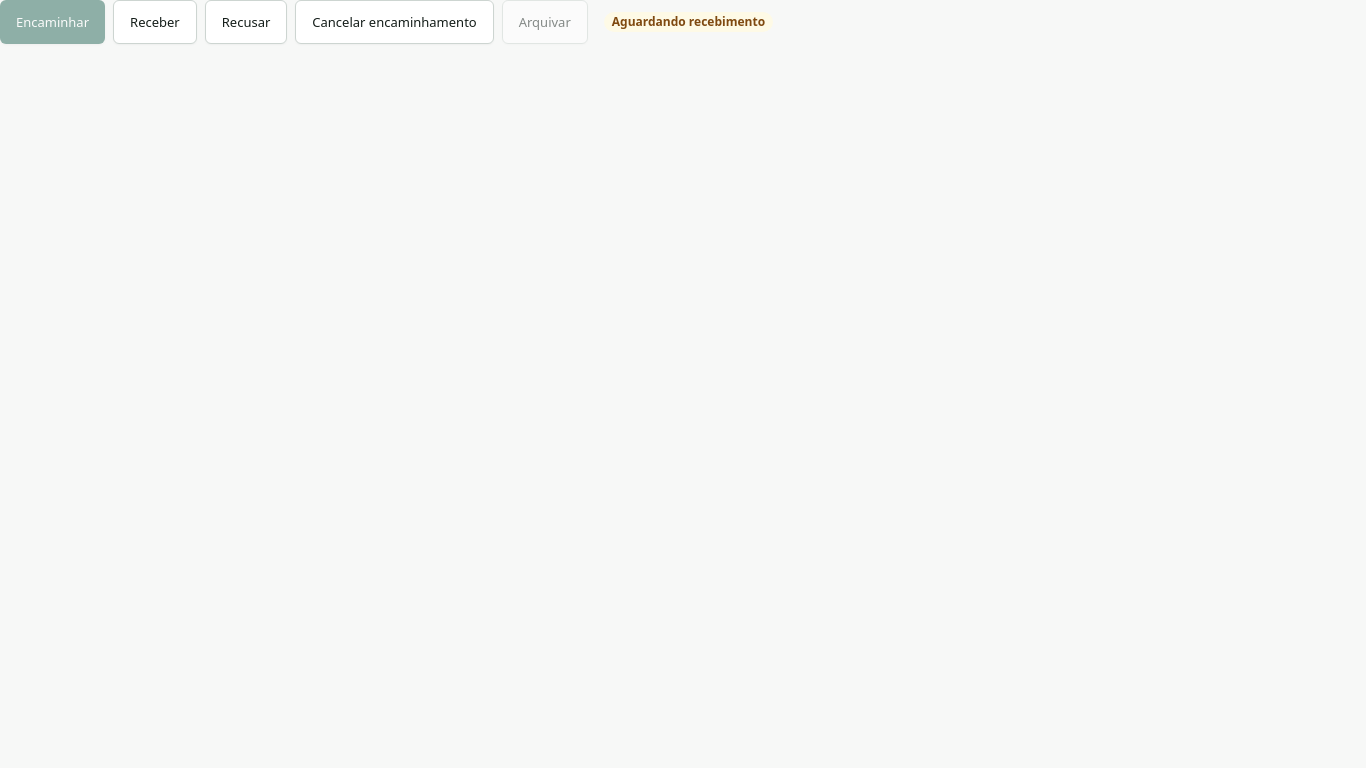
Test: recusar encaminhamento › erro do servidor aparece no diálogo, que continua aberto
The image size is (1366, 768).
Click the button "Recusar": x=246, y=22 [205,0,287,44]
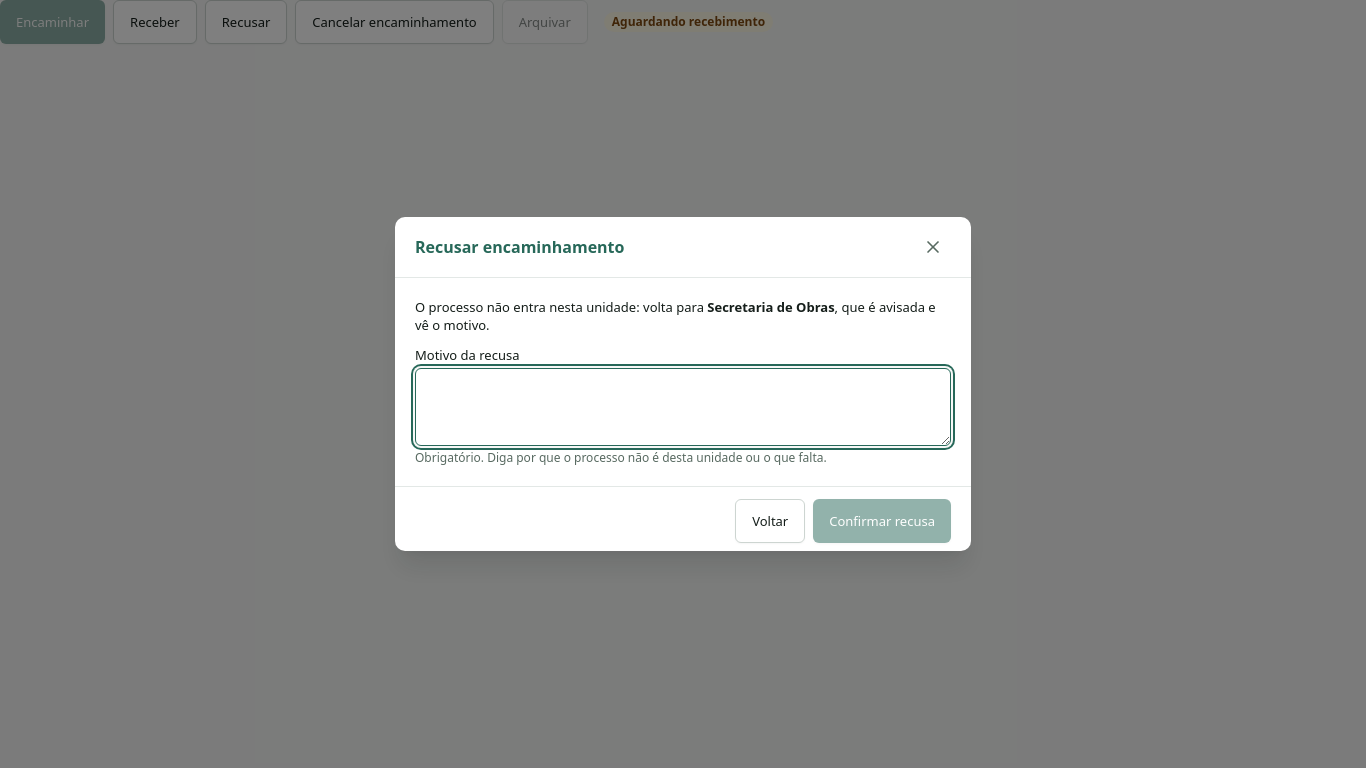
In the text box labelled "Motivo da recusa": x=683, y=407 [415,368,951,446], type "Faltam os documentos."
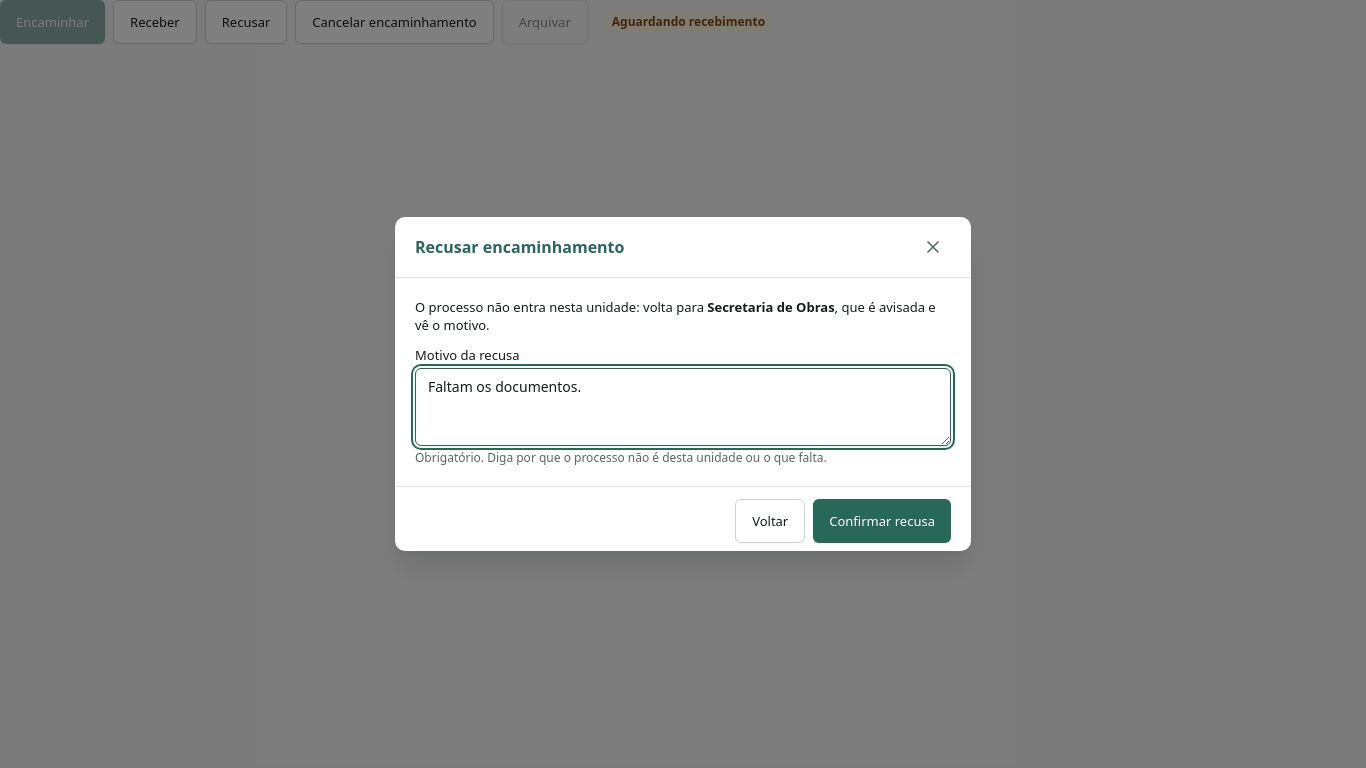
Click the button "Confirmar recusa": x=882, y=521 [813,499,951,543]
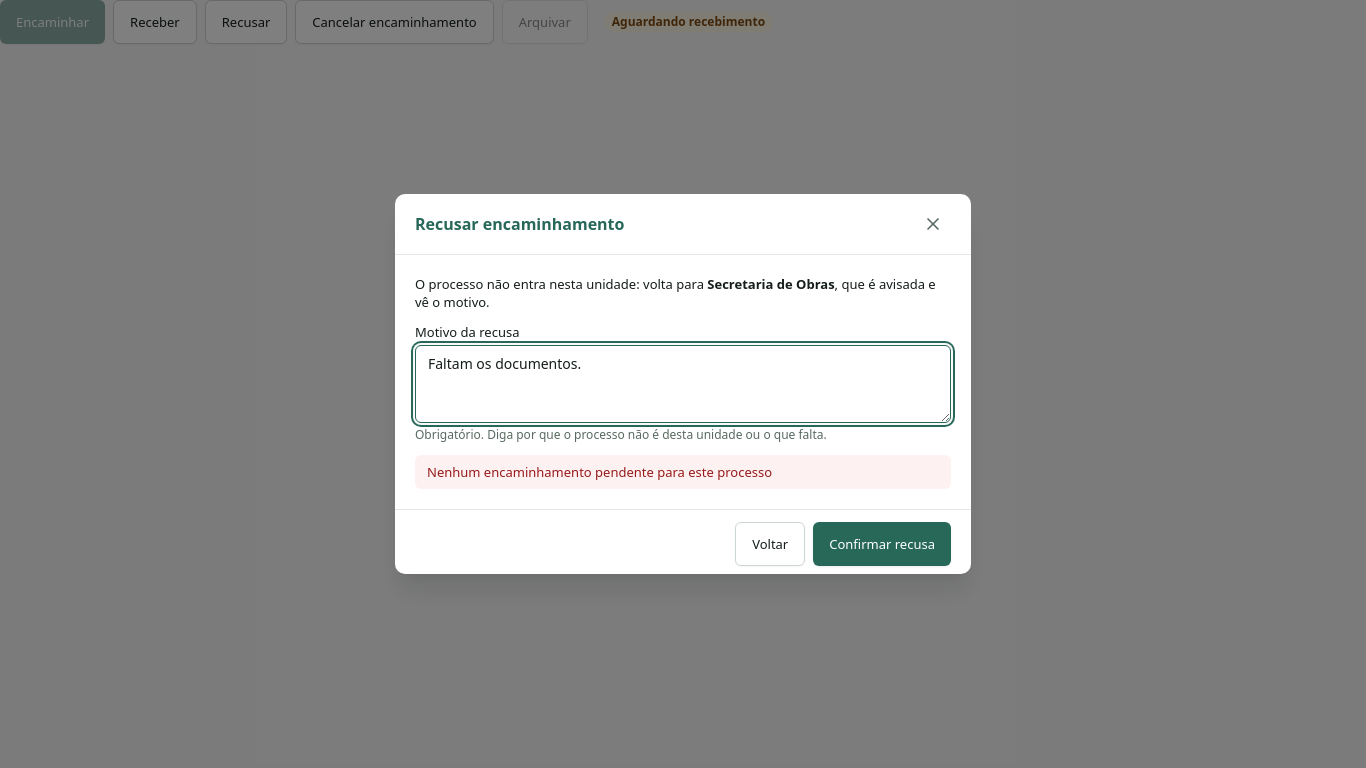
Result: the message shows "Nenhum encaminhamento pendente" at [427,463,772,481]
